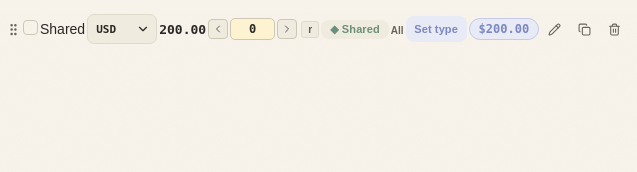
Scenario: CostRow - Who Field Clickability › uses a shared tooltip for the cost name without losing its accessible name
Focus the button with class "cost-name". click: [63, 29]
box: [40,16,85,42]
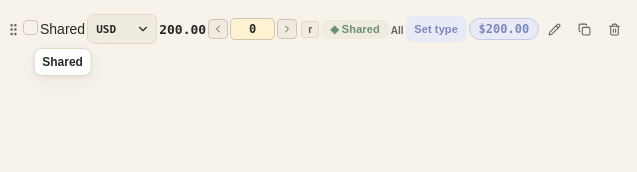
Expected: the tooltip reads "Shared", [42,55,83,69]
